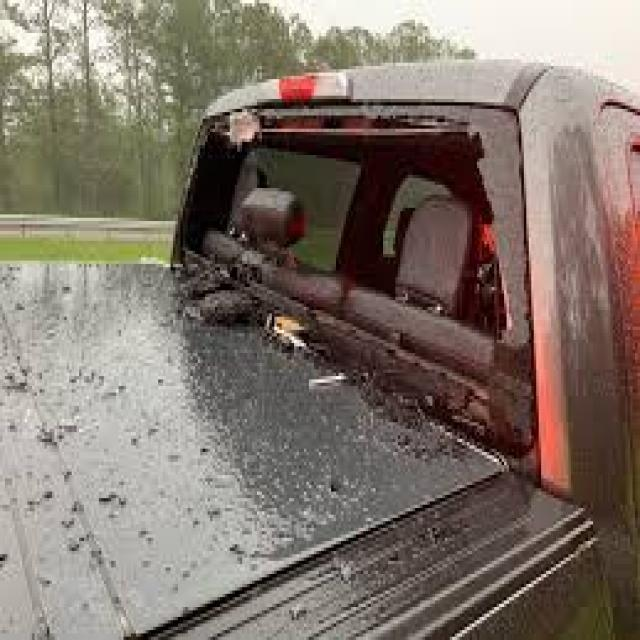damaged-rear-window: (197, 116, 536, 388)
